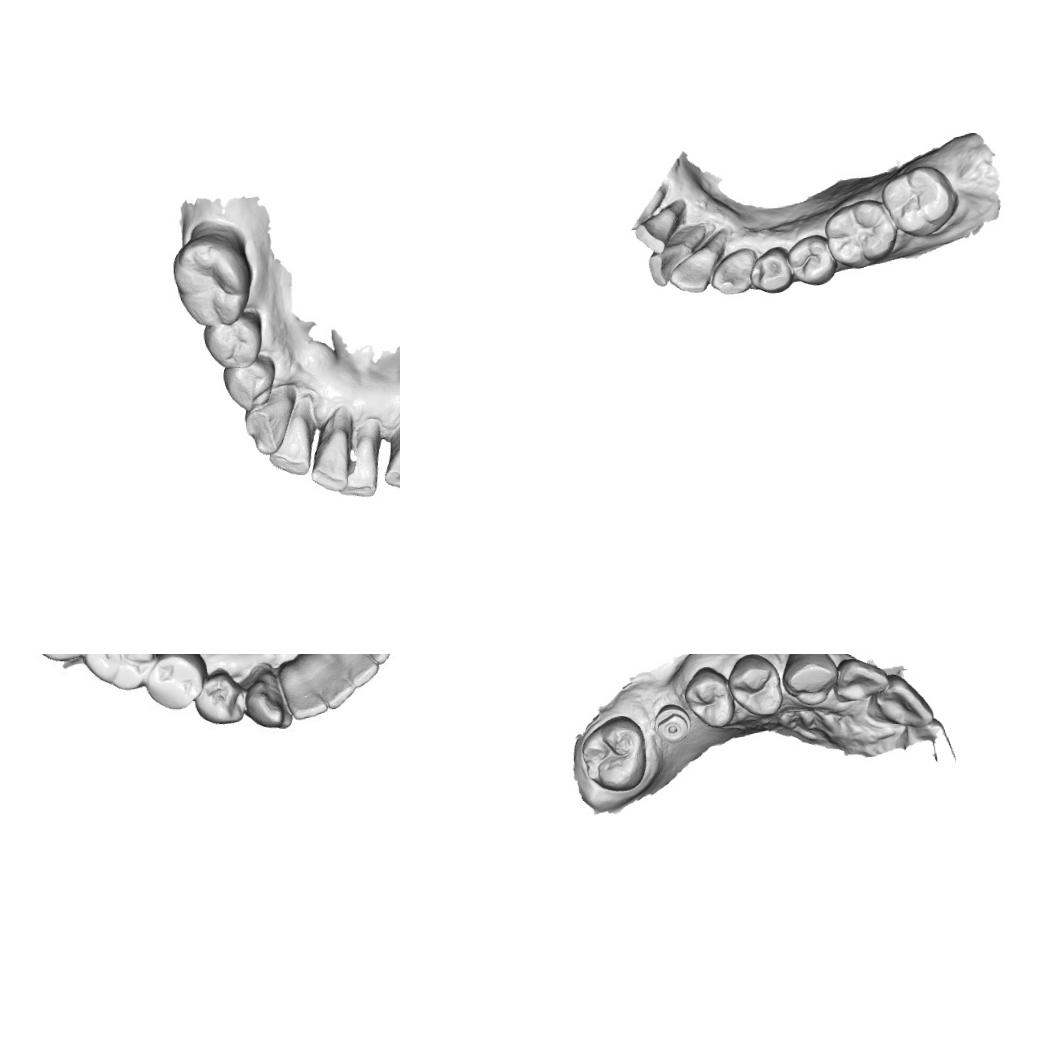canine: (239, 388, 299, 460), (777, 654, 841, 711), (248, 671, 292, 730), (708, 246, 758, 297)
implant: (650, 699, 694, 747)
incisor: (303, 404, 357, 494), (862, 669, 937, 732), (263, 398, 312, 479), (332, 420, 381, 500), (830, 654, 892, 709), (307, 654, 359, 706), (632, 205, 680, 255), (666, 251, 714, 295), (283, 666, 324, 716), (645, 242, 690, 287), (378, 422, 400, 492), (337, 654, 382, 686)
molar: (167, 230, 259, 332), (576, 711, 652, 796), (878, 162, 960, 240), (822, 196, 900, 270), (83, 654, 152, 693)
premolar: (723, 654, 787, 720), (200, 306, 263, 371), (680, 662, 736, 733), (219, 356, 278, 414), (141, 654, 202, 710), (191, 666, 244, 727), (786, 232, 838, 288), (747, 244, 792, 295)
